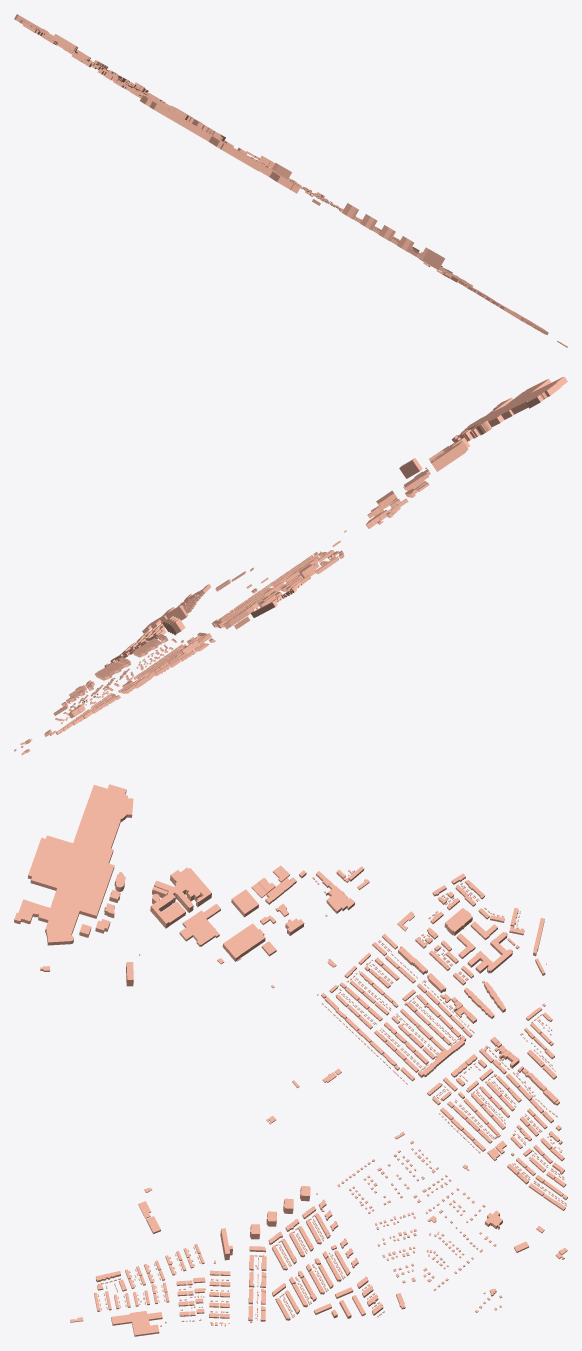
The picture shows the model from 3 angles, top to bottom: view 1: azimuth 30°, elevation 25°; view 2: azimuth 150°, elevation 25°; view 3: azimuth 270°, elevation 25°; orthographic projection. The views are drawn at different scales.
Size of the model in its own units: 1159 by 920 by 1321.
